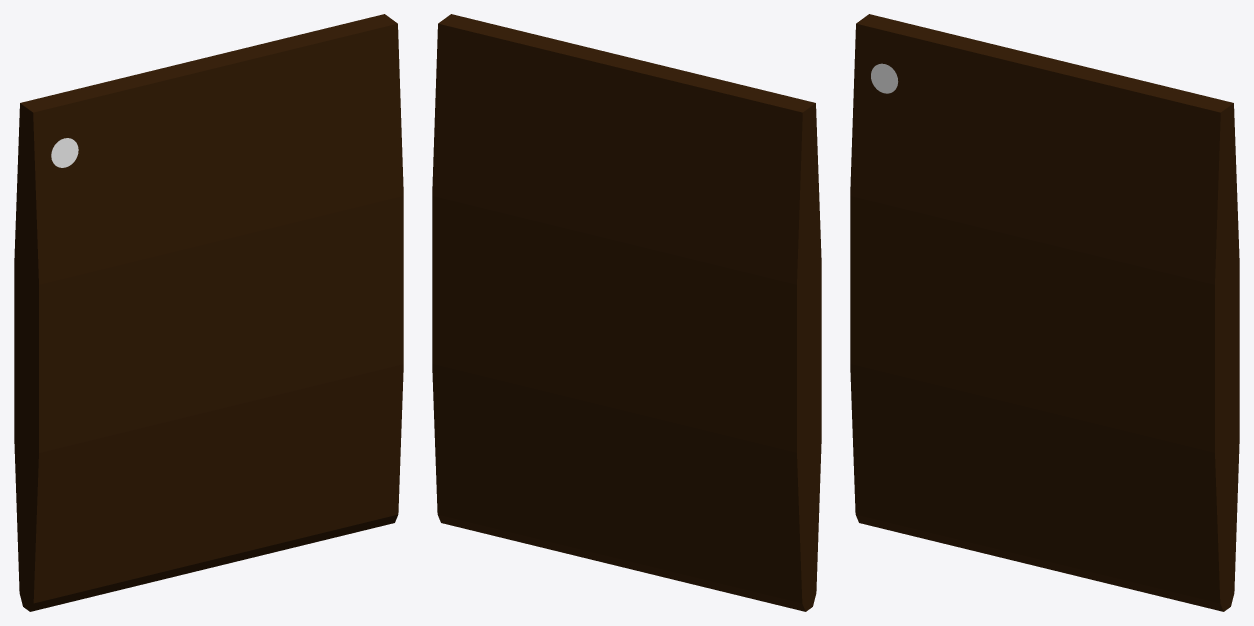
3 views of the same model, side by side, from view 1: azimuth 30°, elevation 25°; view 2: azimuth 150°, elevation 25°; view 3: azimuth 330°, elevation 25° (orthographic).
Parts seen in each view (by area): view 1: wallet; view 2: wallet; view 3: wallet.
Boxes of the visible parts, left/top/right/bottom form: wallet: left=14, top=14, right=403, bottom=611; wallet: left=432, top=14, right=821, bottom=611; wallet: left=850, top=14, right=1239, bottom=611.
Size of the model in its own units: 3.15 by 4.14 by 0.3718.
